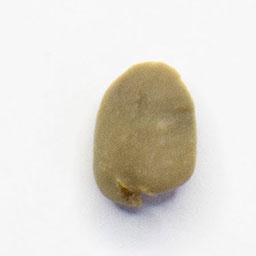peaberry: (88, 58, 201, 212)
